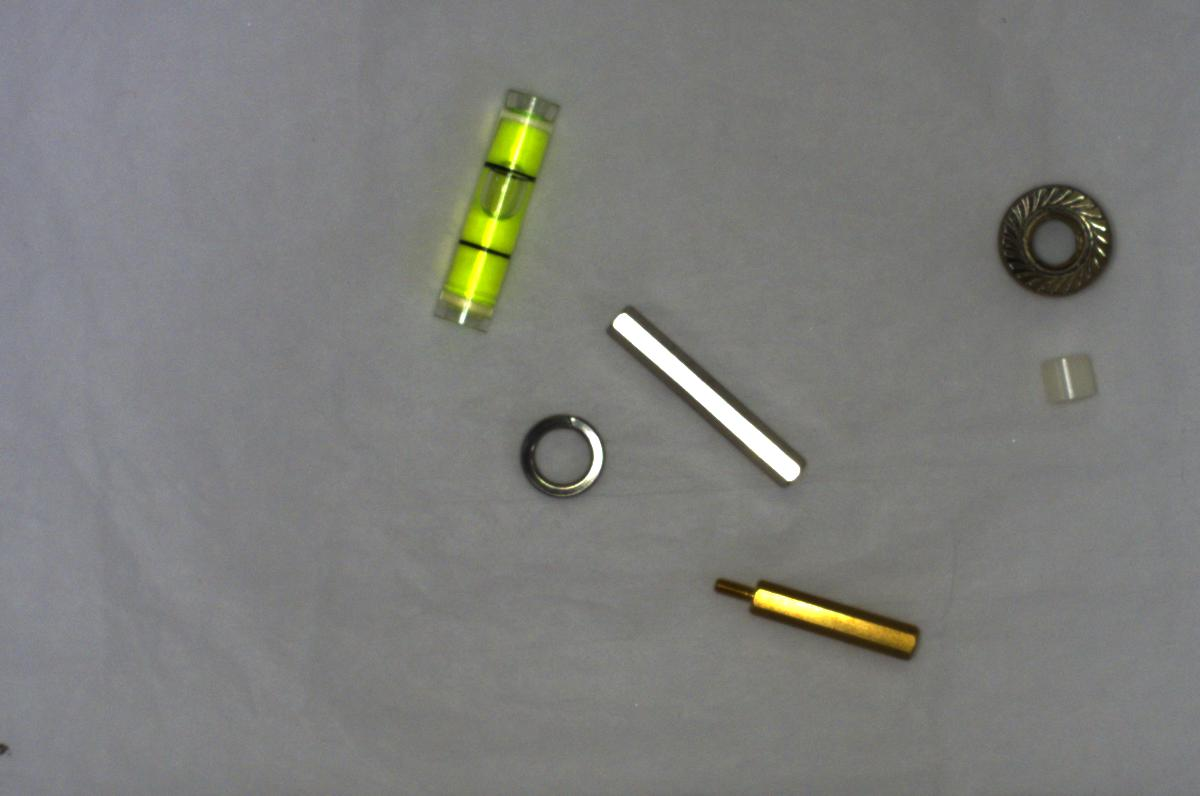Double hexagonal column: (602, 300, 807, 492)
Flange nut: (987, 172, 1121, 305)
Hexagon pillar: (694, 565, 926, 669)
Horizontal bubble: (415, 83, 561, 332)
Plastic cushion pillar: (1032, 345, 1106, 410)
Spring washer: (512, 408, 613, 502)
